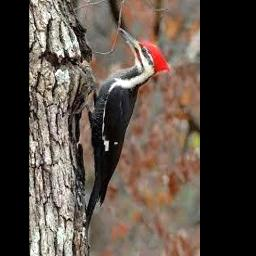Woodpecker: (85, 28, 171, 240)
